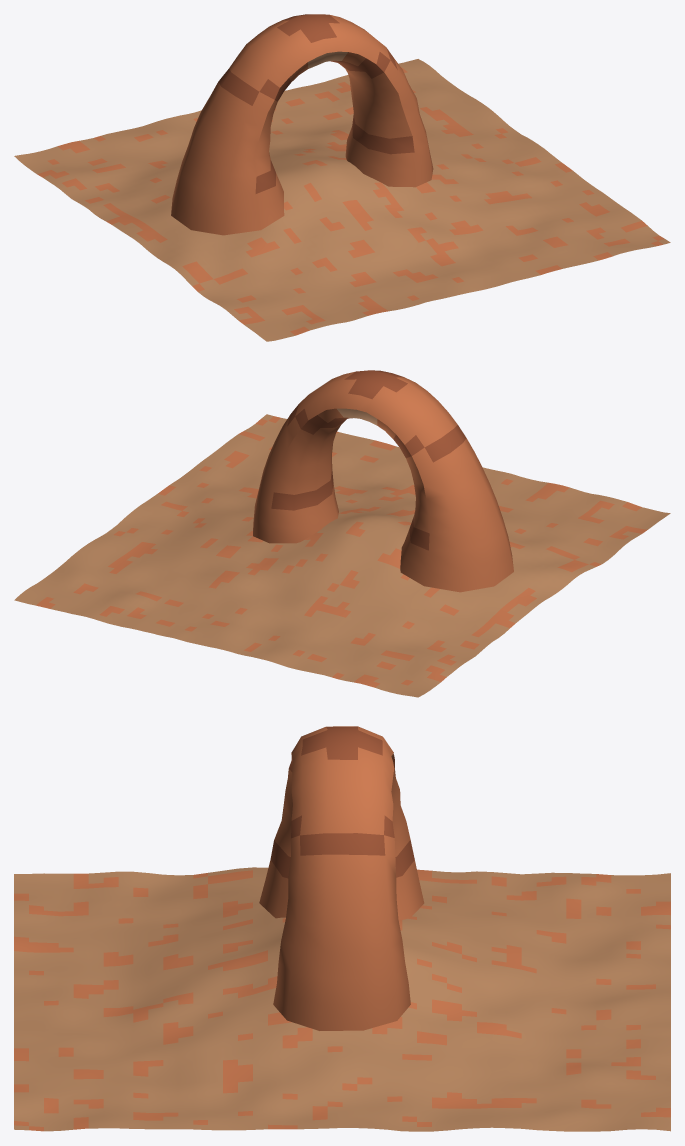
Rendered from landmark-arch-mid.glb.
3 renders of one model, top to bottom at view 1: azimuth 30°, elevation 25°; view 2: azimuth 150°, elevation 25°; view 3: azimuth 270°, elevation 25°, orthographic. The views are drawn at different scales.
Visible parts, largest first — view 1: arch.001; view 2: arch.001; view 3: arch.001.
Boxes of the visible parts, left/top/right/bottom form: arch.001: left=14, top=14, right=670, bottom=341; arch.001: left=14, top=370, right=670, bottom=697; arch.001: left=14, top=726, right=670, bottom=1131.
Size of the model in its own units: 2.24 by 1 by 2.43.
